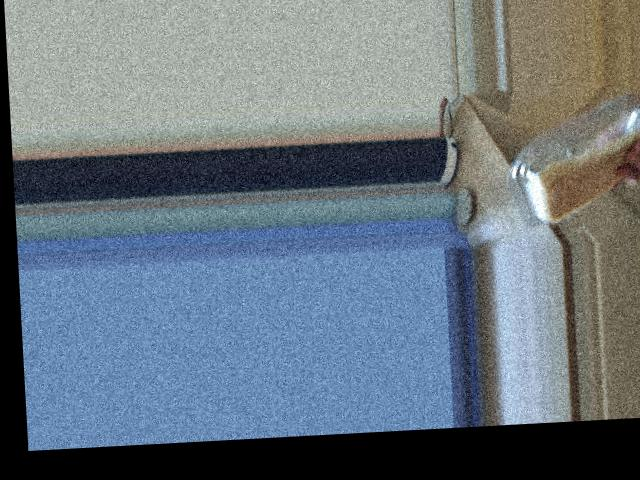cheese: (519, 116, 602, 210)
